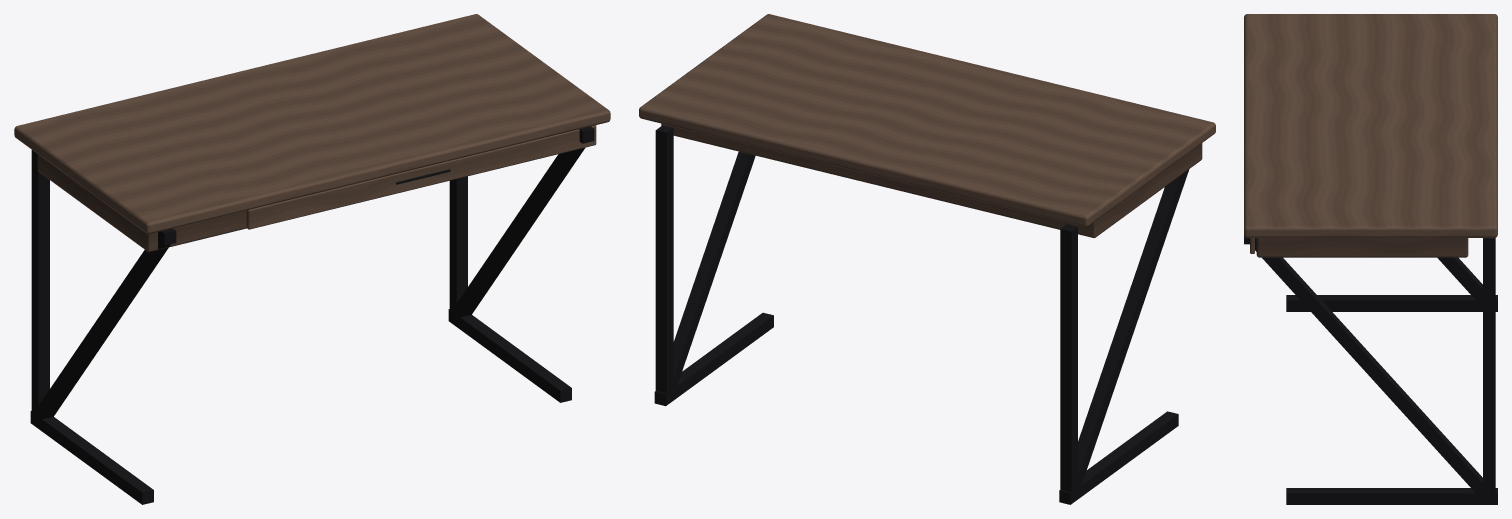
Rendered from yozuv-stoli-nordic.glb.
3 views of the same model, side by side, from view 1: azimuth 30°, elevation 25°; view 2: azimuth 150°, elevation 25°; view 3: azimuth 270°, elevation 25° (orthographic). The views are drawn at different scales.
Parts seen in each view (by area): view 1: furniture; view 2: furniture; view 3: furniture.
Part boxes in pixels (x1,y1,x2,y2): furniture: [14, 14, 610, 504]; furniture: [639, 14, 1215, 504]; furniture: [1244, 14, 1497, 504].
Bounding box in the file's own units: 1.2 × 0.745 × 0.6.
3 materials, 2 textured.
